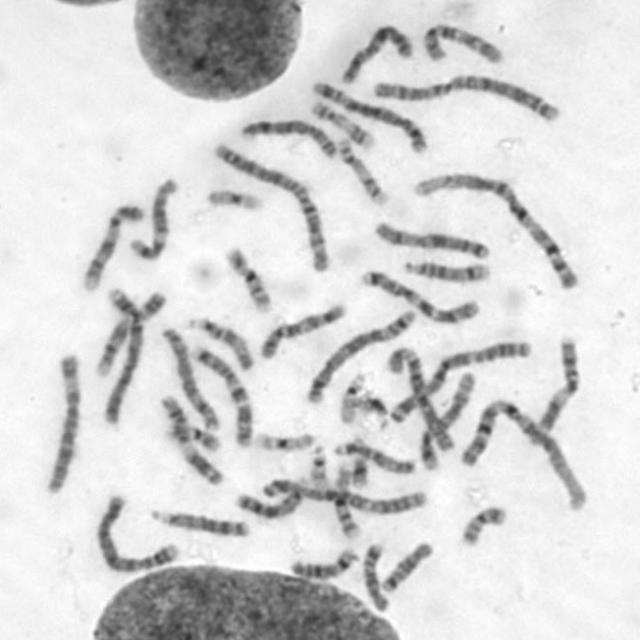A1: (414, 171, 580, 290), (459, 399, 590, 511)
A2: (211, 141, 330, 272), (371, 71, 562, 125)
A3: (390, 341, 532, 424), (262, 476, 427, 515)
B4: (88, 492, 181, 575), (98, 287, 144, 425)
B5: (306, 309, 416, 404), (311, 81, 429, 155)
C10: (259, 304, 347, 361), (423, 22, 506, 66)
C11: (157, 393, 224, 485), (537, 333, 581, 430)
C12: (419, 371, 476, 471), (130, 176, 178, 262)
C6: (388, 346, 456, 449), (44, 349, 84, 497)
C7: (361, 268, 480, 323), (192, 344, 254, 448)
C8: (159, 327, 220, 431), (242, 118, 336, 160)
C9: (94, 289, 168, 377), (82, 203, 144, 293)
D13: (146, 508, 250, 539), (235, 482, 305, 520)
D14: (289, 546, 358, 581), (404, 258, 490, 284)
D15: (185, 318, 254, 372), (334, 442, 414, 476)
E16: (225, 246, 273, 311), (333, 463, 364, 541)
E17: (336, 137, 386, 204), (309, 100, 374, 149)
E18: (382, 540, 434, 593), (363, 542, 391, 612)
F19: (202, 186, 268, 216), (254, 431, 314, 451)
F20: (462, 506, 506, 544), (168, 424, 219, 450)
G21: (356, 393, 389, 430), (352, 448, 368, 489)
G22: (338, 372, 365, 423), (309, 444, 329, 490)
X: (374, 222, 492, 262), (338, 24, 415, 84)
